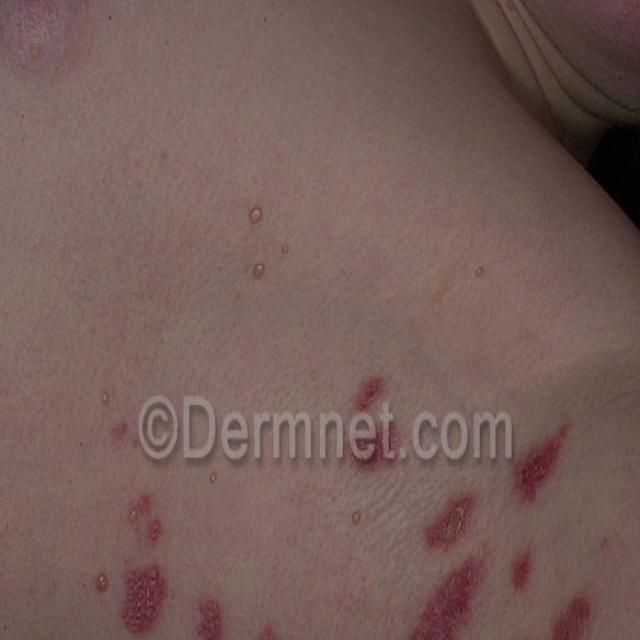Viral Infections: (88, 378, 178, 640), (344, 363, 418, 524), (503, 542, 598, 640), (416, 488, 477, 640), (190, 567, 289, 640), (512, 426, 586, 493), (240, 196, 278, 297), (0, 559, 13, 597)
